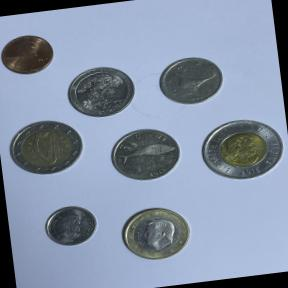1 Euro-B: (116, 198, 198, 268)
2 Euro-B: (1, 114, 90, 182)
Canada-10cent-B: (39, 198, 105, 255)
Canada-2Dollar-B: (193, 108, 288, 188)
Croatia-2Kune-B: (105, 122, 186, 188)
US-1cent-B: (0, 30, 60, 81)
US-25cent-B: (62, 62, 141, 124)
